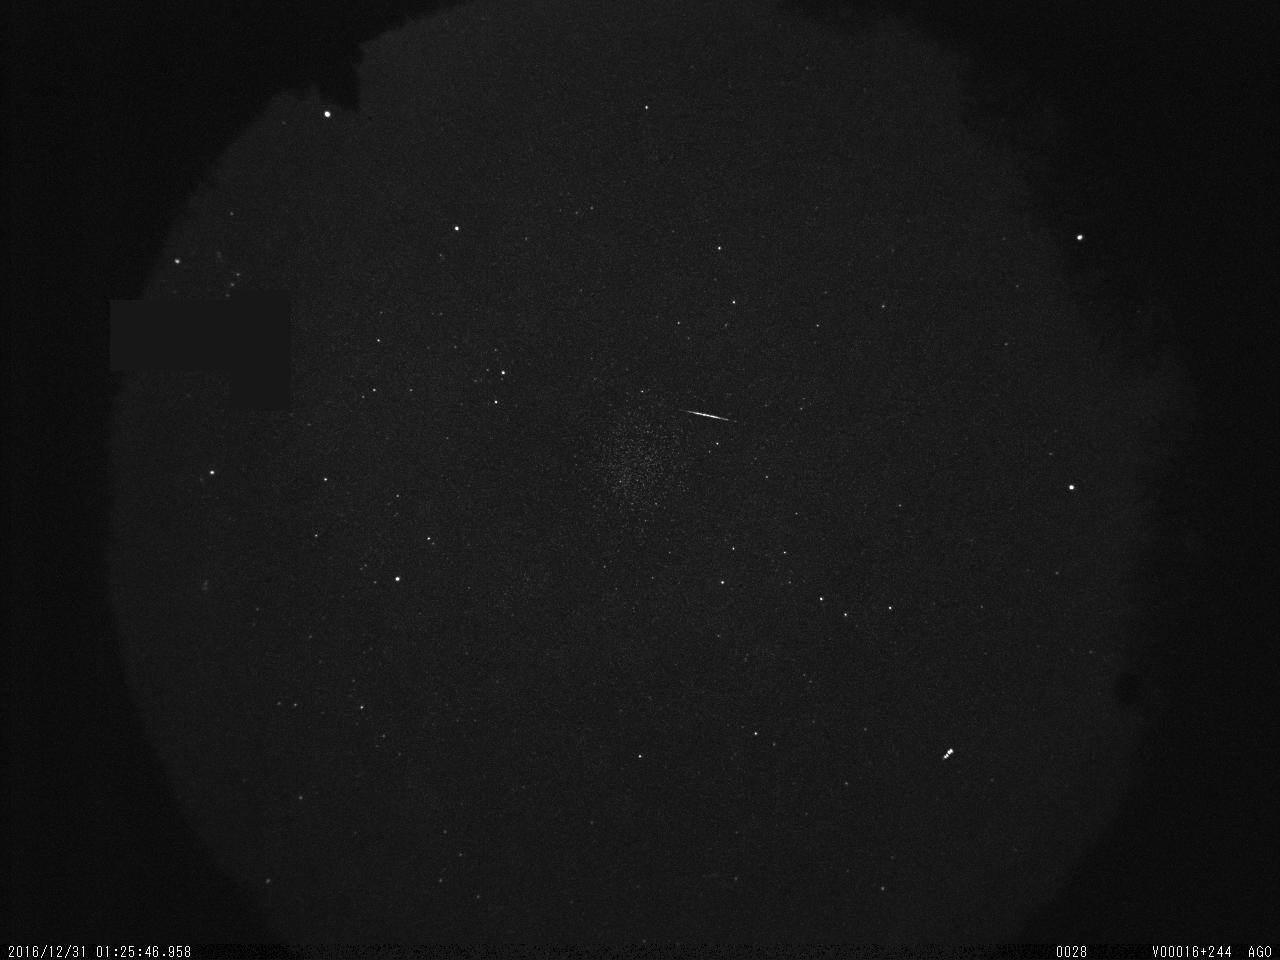meteor: (668, 392, 745, 432)
